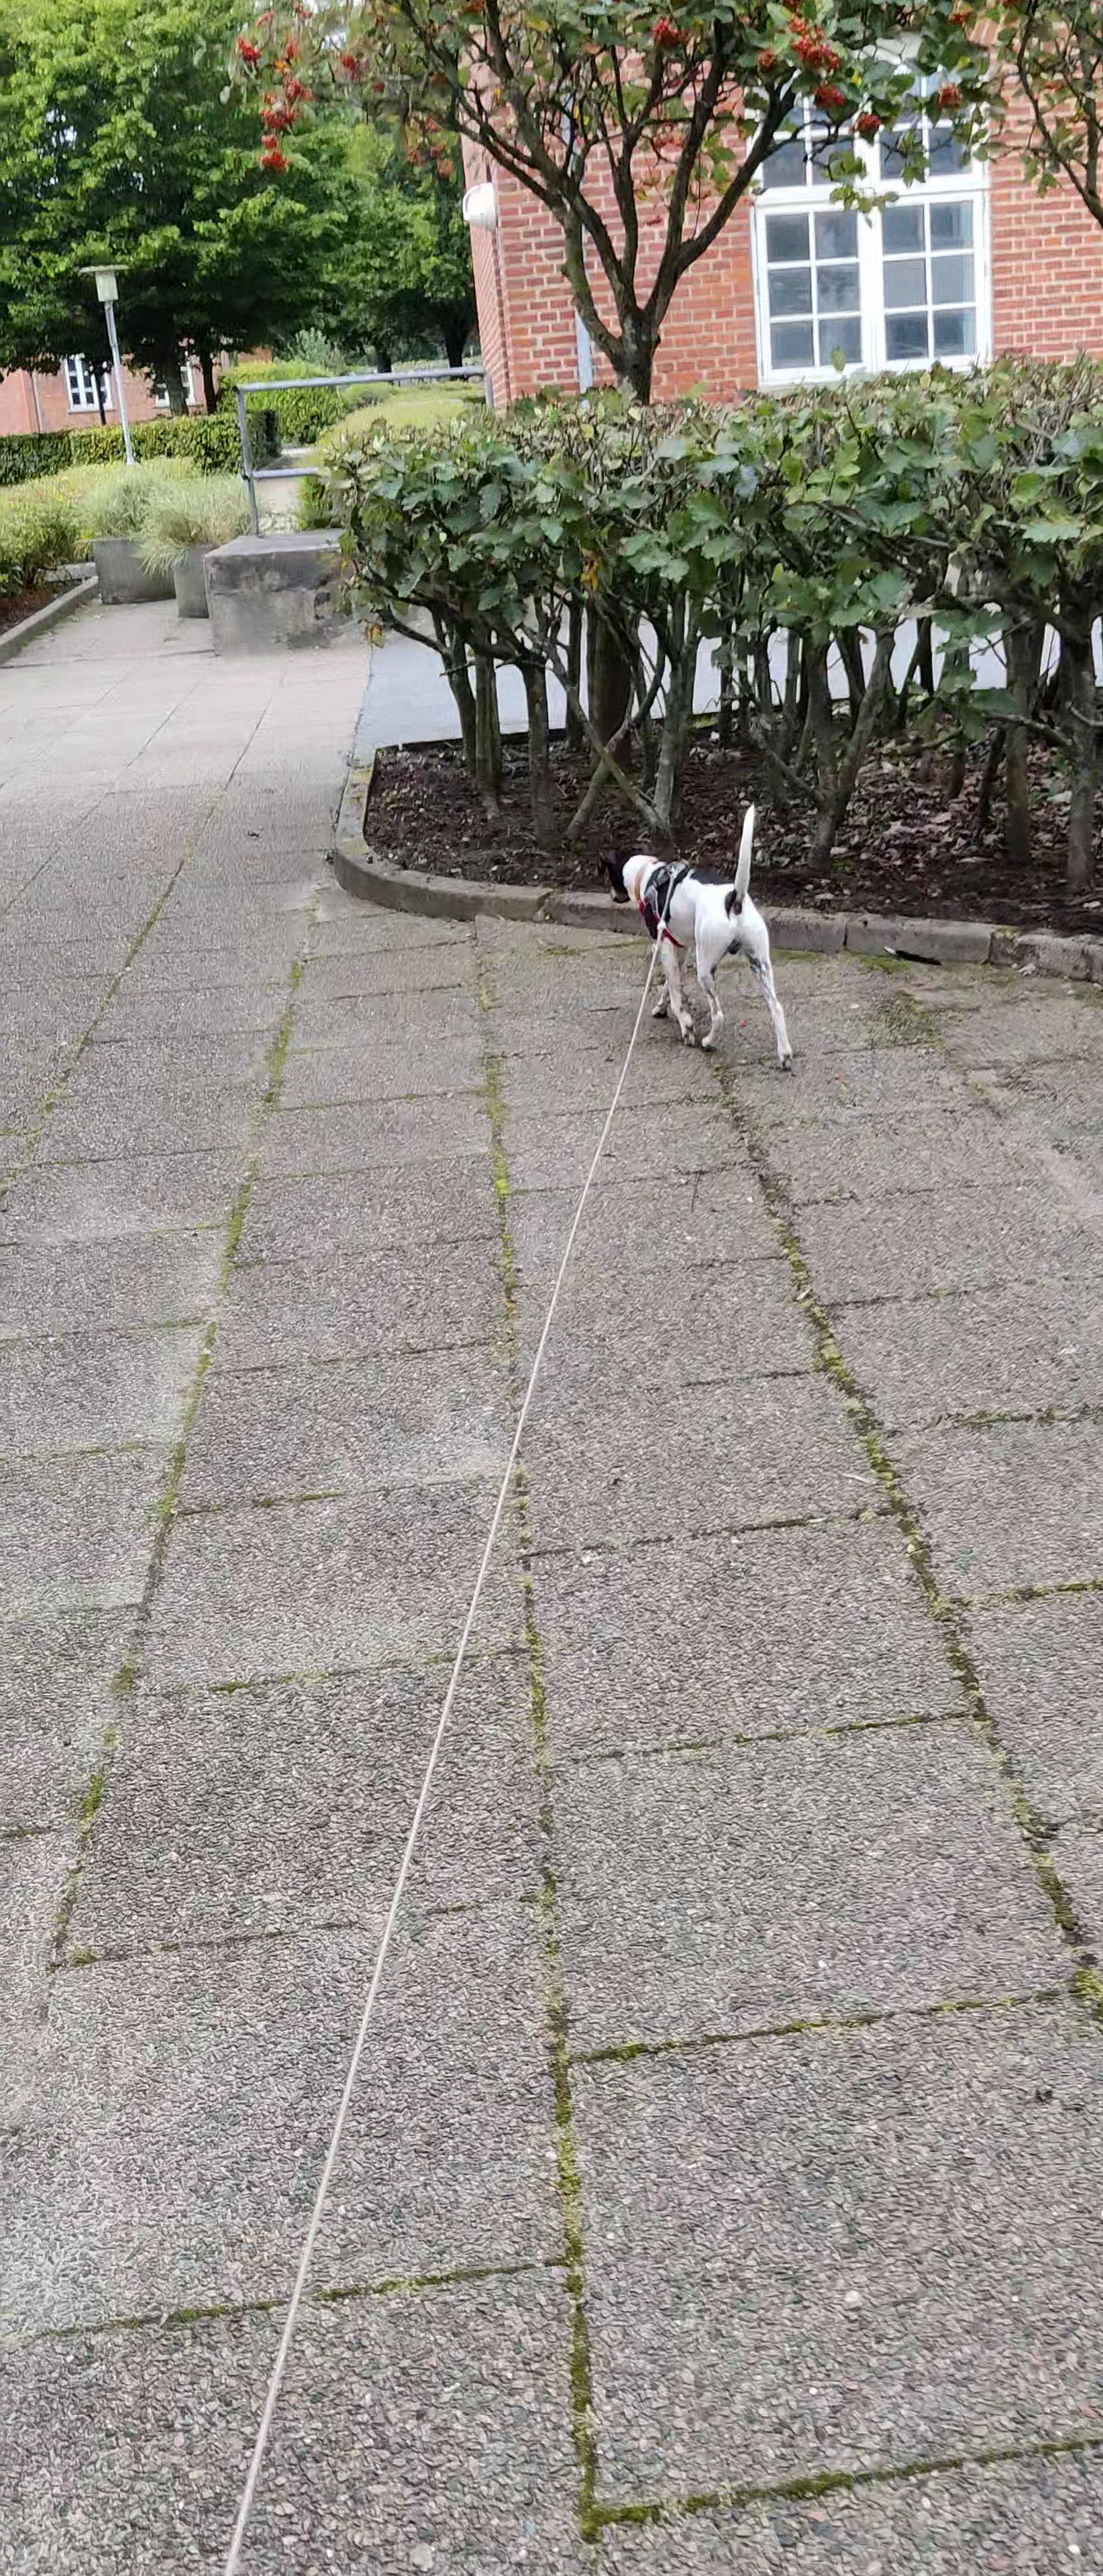Dog: (593, 797, 797, 1074)
